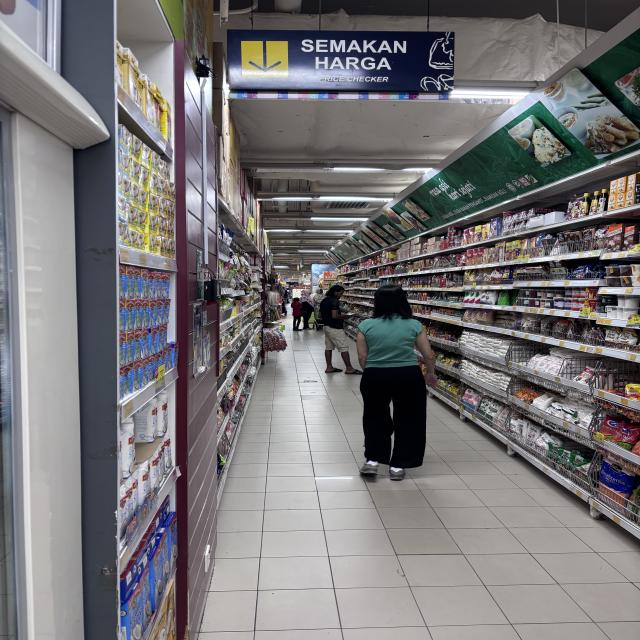Person: (355, 279, 444, 490), (318, 281, 364, 378)
